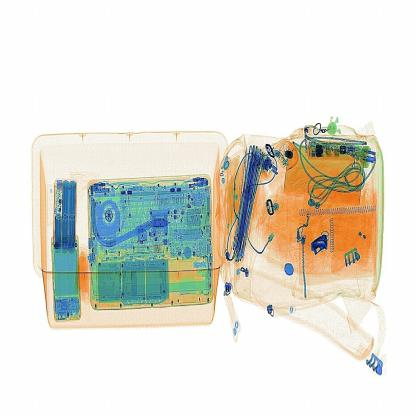knife: (310, 233, 331, 261)
